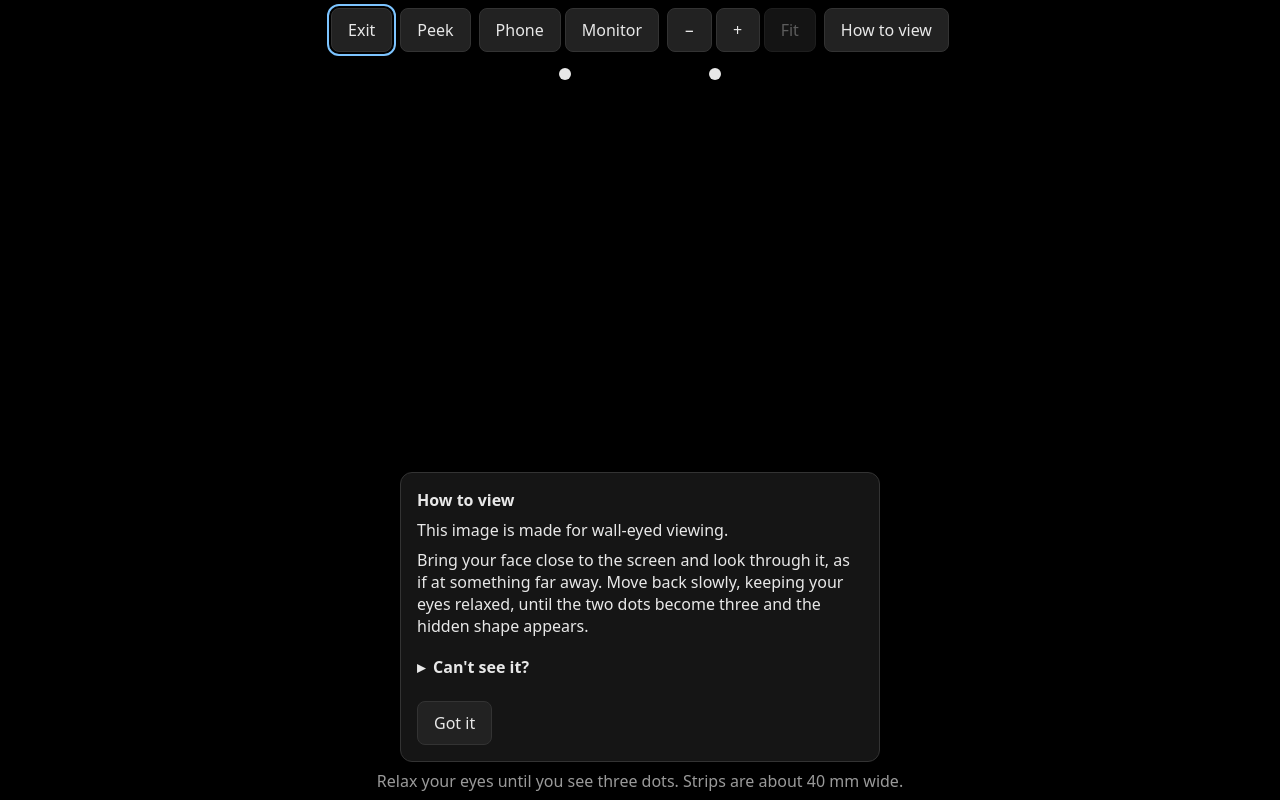
Scenario: Viewer › Peek toggles from the keyboard
Click the button "Peek" at (435, 30), box [400,8,471,52]
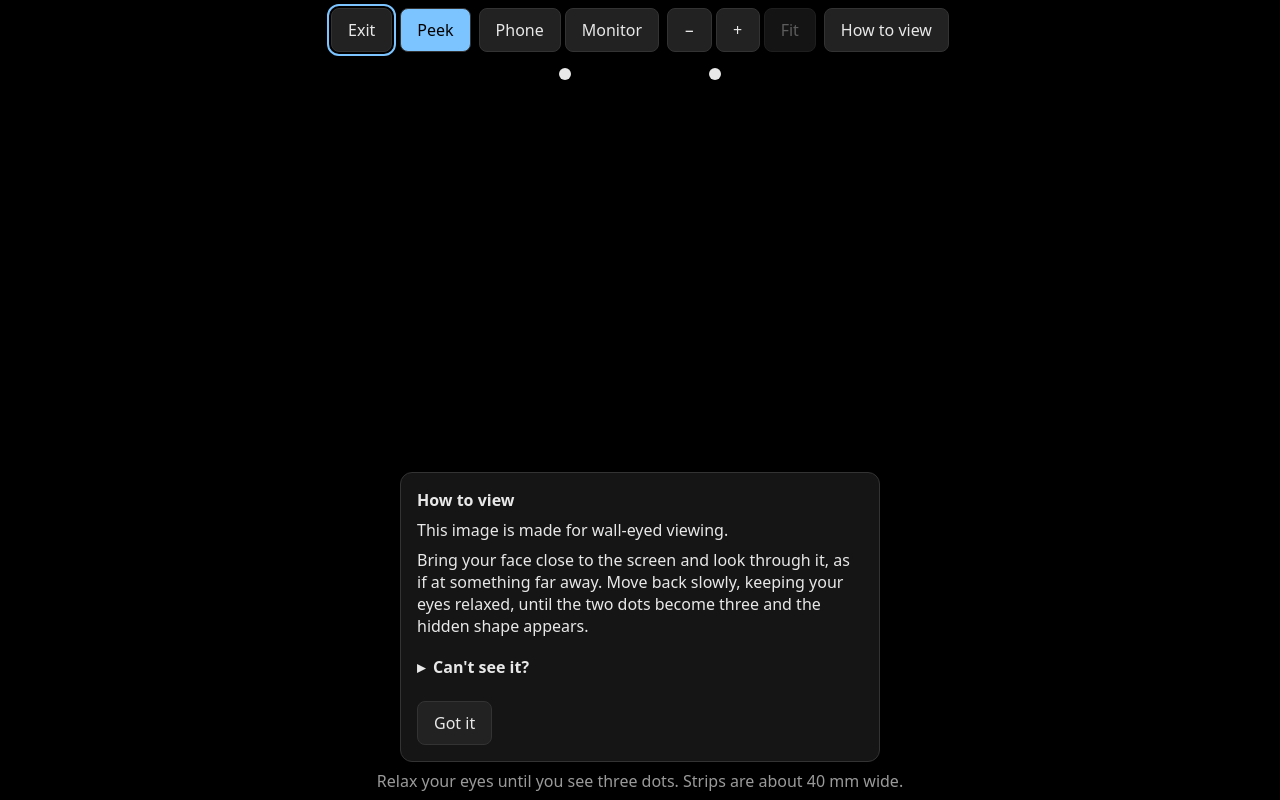
Expected: the picture named "Depth map preview" is shown, [490,350,790,500]
Now the button "Peek" is pressed
Click the button "Peek" at (435, 30), box [400,8,471,52]
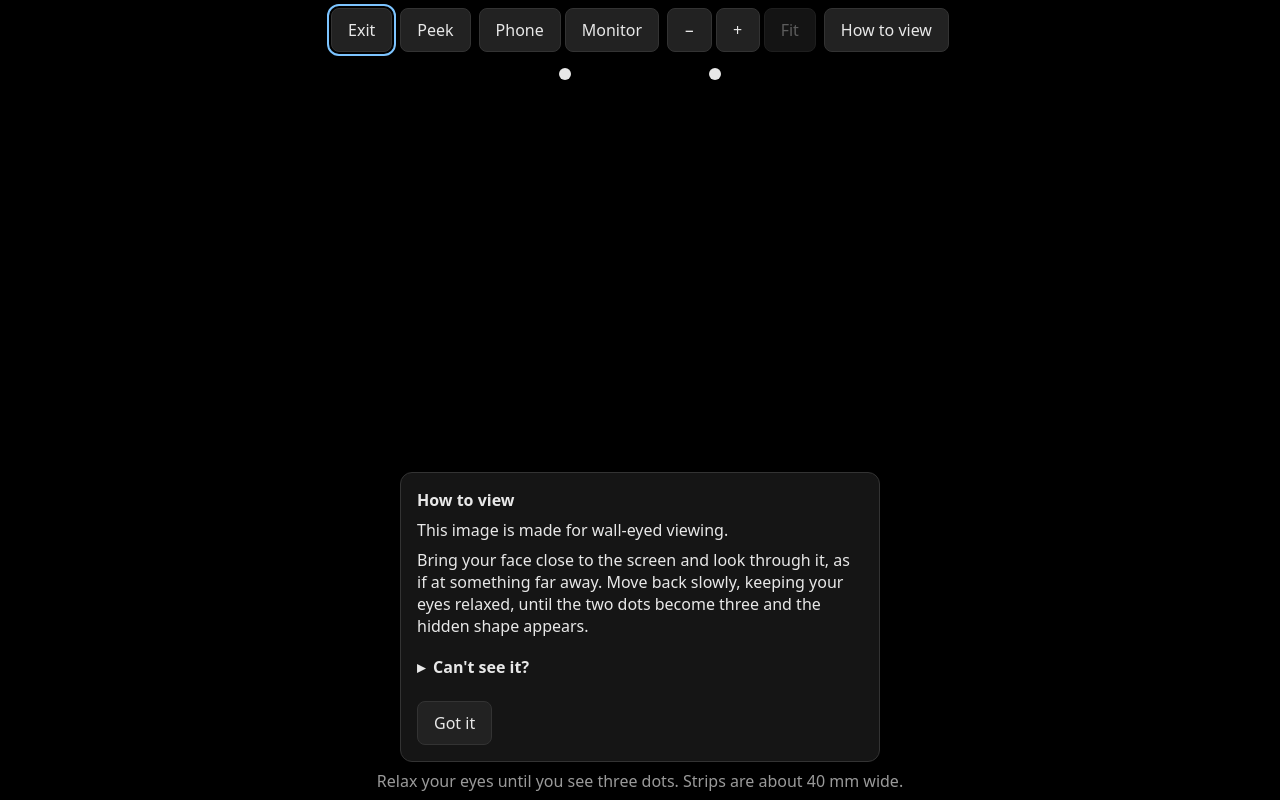
Now the button "Peek" is not pressed, box [400,8,471,52]
